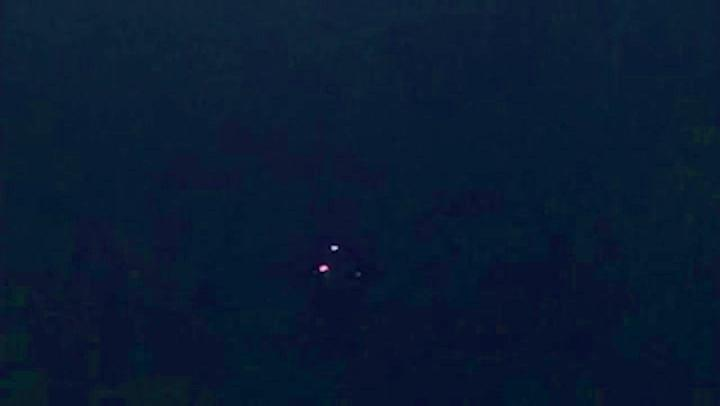Plane: (298, 258, 344, 283)
